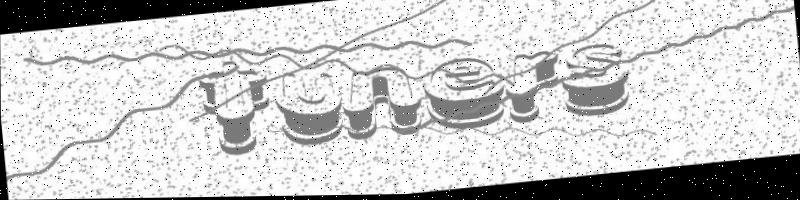e: (421, 55, 507, 133)
n: (340, 66, 423, 143)
r: (504, 52, 565, 125)
s: (560, 44, 632, 120)
t: (199, 60, 273, 159)
u: (274, 69, 345, 149)
